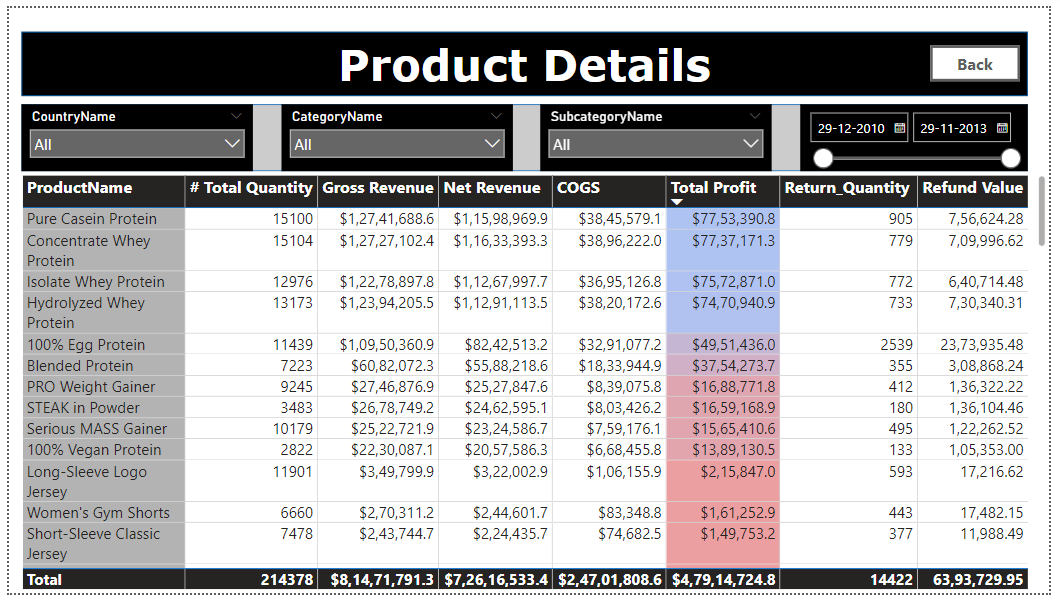

Layout of this report page (visuals, bound fields, positions):
{"tool":"powerbi","page":{"name":"Ptoduct Details","canvas":[1280,720],"ordinal":5},"visuals":[{"type":"shape","box":[15.9,118.5,1238.1,82.3],"z":0},{"type":"tableEx","fields":{"Values":["DimProducts.ProductName","MeasuresTable.# Total Quantity","MeasuresTable.Gross Revenue","MeasuresTable.Net Revenue","MeasuresTable.COGS","MeasuresTable.Total Profit","MeasuresTable.Return_Quantity","MeasuresTable.Refund Value"]},"box":[10.1,200.8,1269.9,518.6],"z":1000},{"type":"shape","box":[15.9,28.9,1238.1,79.5],"z":2000},{"type":"slicer","fields":{"Values":["DimCustomers.CountryName"]},"box":[15.9,118.5,284.6,82.3],"z":3000},{"type":"slicer","fields":{"Values":["DimCategory.CategoryName"]},"box":[335.2,118.5,284.6,82.3],"z":4000},{"type":"slicer","fields":{"Values":["DimDates.Date"]},"box":[973.7,118.5,280.3,82.3],"z":5000},{"type":"slicer","fields":{"Values":["DimSub-category.SubcategoryName"]},"box":[654.4,118.5,284.6,82.3],"z":6000},{"type":"actionButton","box":[1134.4,46.5,110,44],"z":6001}]}

Visuals, with their boxes in screenshot pixels (x1, y1, x2, y2), scaled from the page's 1280x720 canvas onto the 1060x602 screenshot:
shape: <bbox>13, 99, 1038, 168</bbox>
tableEx - DimProducts.ProductName x MeasuresTable.# Total Quantity: <bbox>8, 168, 1059, 601</bbox>
shape: <bbox>13, 24, 1038, 91</bbox>
slicer - DimCustomers.CountryName: <bbox>13, 99, 249, 168</bbox>
slicer - DimCategory.CategoryName: <bbox>278, 99, 513, 168</bbox>
slicer - DimDates.Date: <bbox>806, 99, 1038, 168</bbox>
slicer - DimSub-category.SubcategoryName: <bbox>542, 99, 778, 168</bbox>
actionButton: <bbox>939, 39, 1031, 76</bbox>
